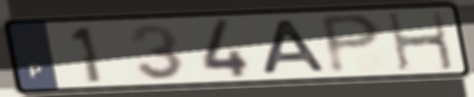1: (67, 24, 107, 85)
3: (126, 21, 188, 82)
4: (198, 16, 253, 81)
A: (258, 18, 330, 76)
H: (384, 8, 458, 73)
P: (316, 11, 386, 77)
